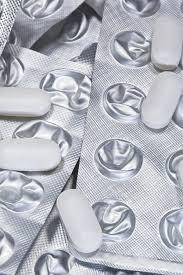pill_Strip: (77, 0, 182, 273), (0, 105, 85, 273), (151, 16, 182, 69), (0, 87, 50, 116)
